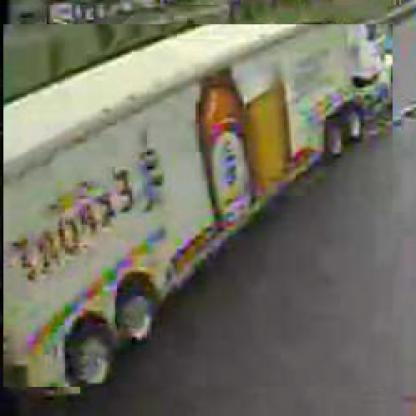container: (3, 26, 394, 390)
